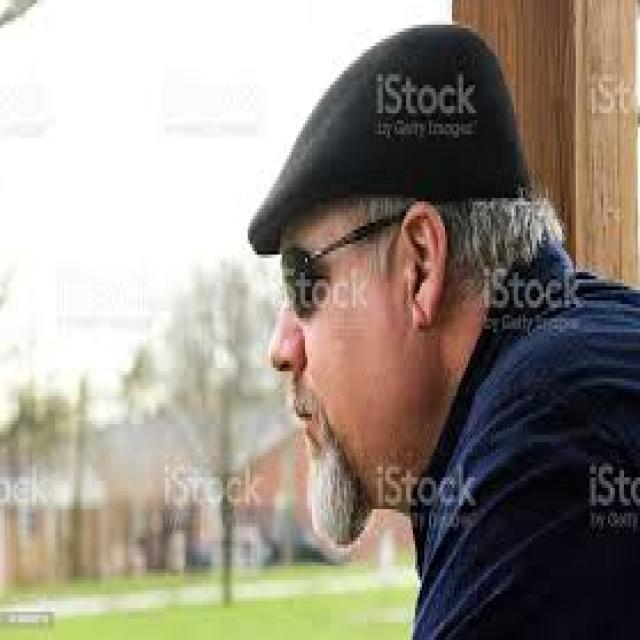cap: (248, 25, 532, 509)
